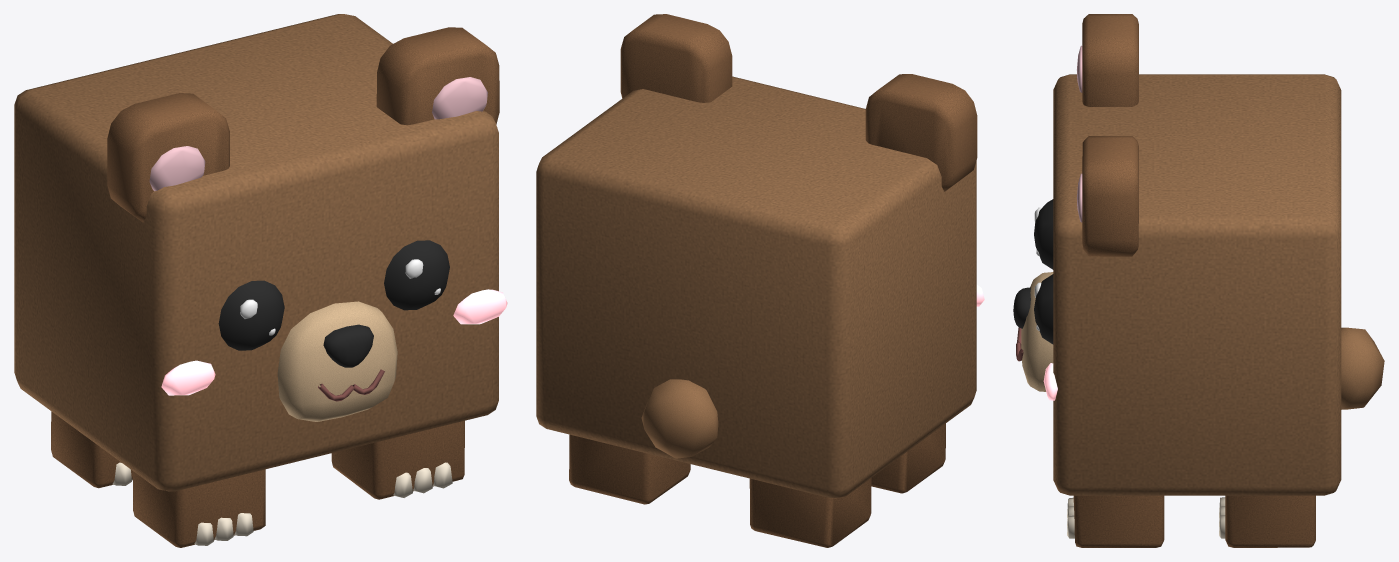
File: Bear_Braunbaer.fbx
3 renders of one model, left to right at view 1: azimuth 30°, elevation 25°; view 2: azimuth 150°, elevation 25°; view 3: azimuth 270°, elevation 25°, orthographic. The views are drawn at different scales.
Visible parts, largest first — view 1: Braunbaer_body, Braunbaer_ears, Braunbaer_feet, Braunbaer_muzzle, Braunbaer_eyes, Bear_Braunbaer, Braunbaer_toes, Bear_Braunbaer_cute_innerear_-1, Braunbaer_nose, Bear_Braunbaer_cute_blush_-1; view 2: Braunbaer_body, Braunbaer_ears, Braunbaer_feet, Bear_Braunbaer_cute_tail; view 3: Braunbaer_body, Braunbaer_ears, Braunbaer_feet, Bear_Braunbaer_cute_tail, Braunbaer_eyes, Braunbaer_muzzle, Bear_Braunbaer, Braunbaer_toes, Braunbaer_nose.
Part boxes in pixels (bbox=[...]): Braunbaer_body: bbox=[14, 14, 498, 491]; Braunbaer_ears: bbox=[107, 27, 499, 222]; Braunbaer_feet: bbox=[51, 411, 464, 547]; Braunbaer_muzzle: bbox=[277, 301, 397, 421]; Braunbaer_eyes: bbox=[218, 240, 449, 350]; Bear_Braunbaer: bbox=[405, 77, 507, 324]; Braunbaer_toes: bbox=[112, 462, 452, 545]; Bear_Braunbaer_cute_innerear_-1: bbox=[149, 146, 205, 191]; Braunbaer_nose: bbox=[323, 324, 373, 367]; Bear_Braunbaer_cute_blush_-1: bbox=[161, 360, 215, 395]; Braunbaer_body: bbox=[536, 76, 976, 498]; Braunbaer_ears: bbox=[620, 14, 977, 191]; Braunbaer_feet: bbox=[569, 423, 945, 547]; Bear_Braunbaer_cute_tail: bbox=[641, 379, 718, 458]; Braunbaer_body: bbox=[1053, 74, 1341, 495]; Braunbaer_ears: bbox=[1082, 14, 1138, 256]; Braunbaer_feet: bbox=[1073, 495, 1315, 547]; Bear_Braunbaer_cute_tail: bbox=[1341, 327, 1384, 409]; Braunbaer_eyes: bbox=[1034, 199, 1053, 344]; Braunbaer_muzzle: bbox=[1021, 272, 1053, 391]; Bear_Braunbaer: bbox=[1034, 173, 1082, 400]; Braunbaer_toes: bbox=[1067, 497, 1225, 538]; Braunbaer_nose: bbox=[1013, 287, 1030, 328].
Bounding box in the file's own units: 2.35 × 2.61 × 2.21.
12 materials, 5 textured.
